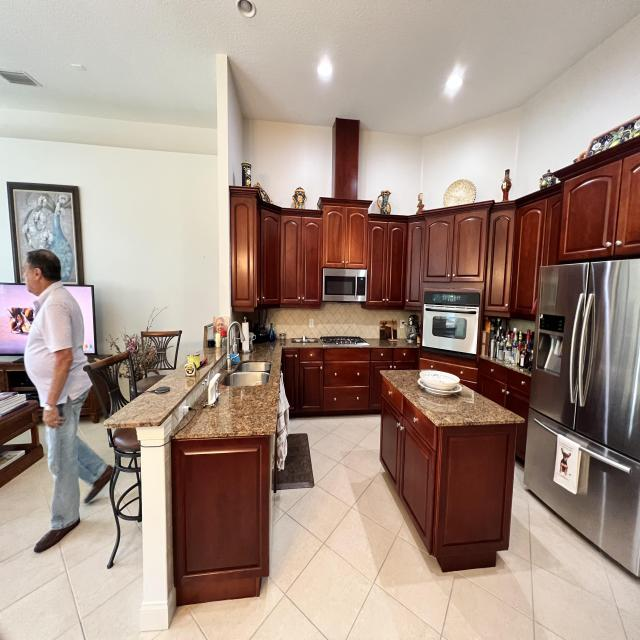Appliance_Fridge: (524, 258, 640, 571)
Appliance_Microwave: (323, 268, 367, 302)
Appliance_Oven: (423, 292, 481, 358)
Appliance_Stove: (319, 336, 370, 346)
Cabinet_Flat: (300, 349, 532, 393), (383, 378, 438, 450)
Cabinet_Raised_Panel: (256, 137, 640, 319), (369, 360, 436, 531), (476, 377, 529, 465), (283, 348, 323, 410)
Countertop_Granite: (175, 340, 285, 438), (104, 347, 220, 429), (382, 370, 525, 427), (284, 337, 324, 347), (362, 337, 398, 348)
